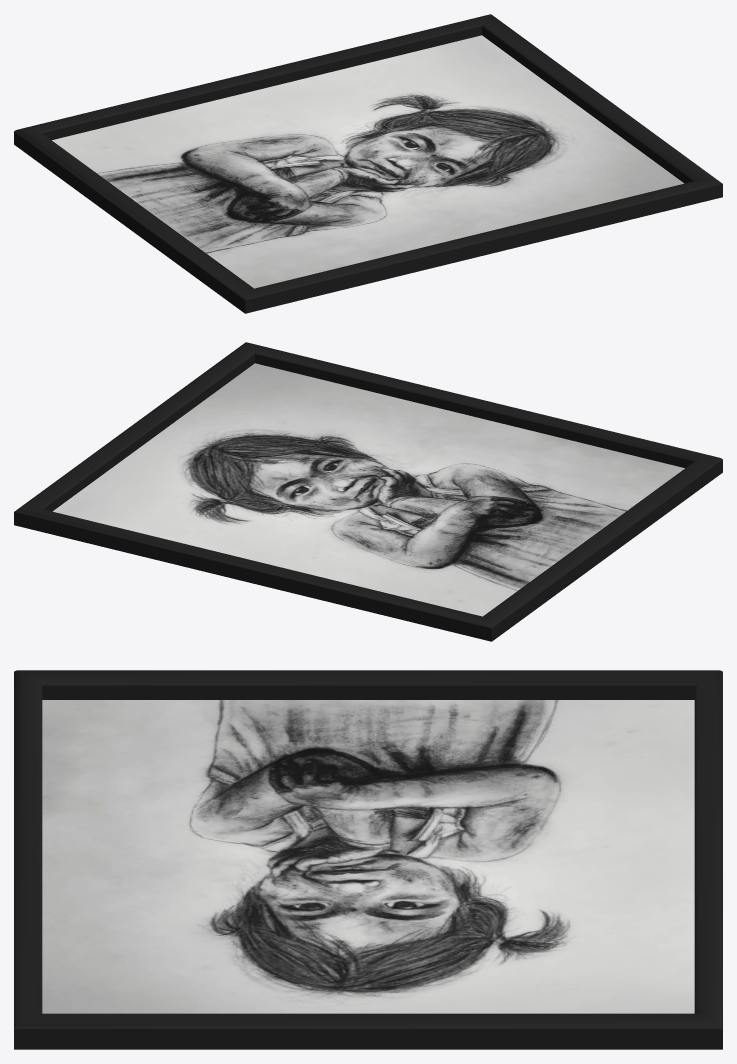
The model's file is charcoal.glb.
The picture shows the model from 3 angles, top to bottom: view 1: azimuth 30°, elevation 25°; view 2: azimuth 150°, elevation 25°; view 3: azimuth 270°, elevation 25°; orthographic projection. The views are drawn at different scales.
Visible parts, largest first — view 1: charcoal; view 2: charcoal; view 3: charcoal.
Boxes of the visible parts, <box> form: charcoal: <box>14,14,722,313</box>; charcoal: <box>14,342,722,641</box>; charcoal: <box>14,670,722,1049</box>.
Size of the model in its own units: 0.5432 by 0.0174 by 0.4552.
Materials: 2 (1 with a texture image).
